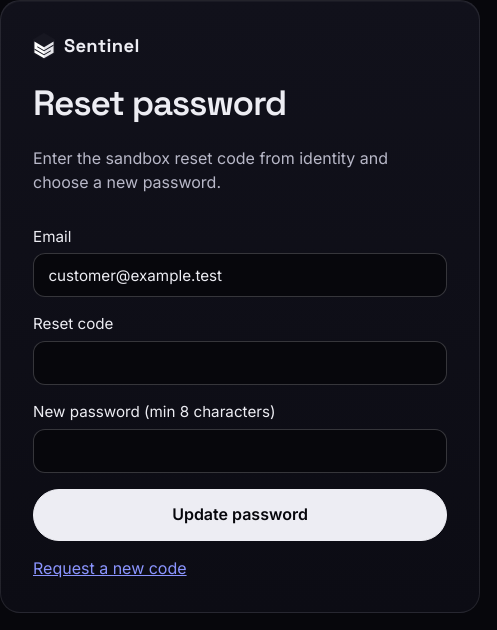
Test: auth challenge pages › reset password success — no Fixture placeholder
The image size is (497, 630).
Type "fixture-reset" into the field with test id "reset-code".
click(240, 363); type("fixture-reset")  # box [33,341,447,385]
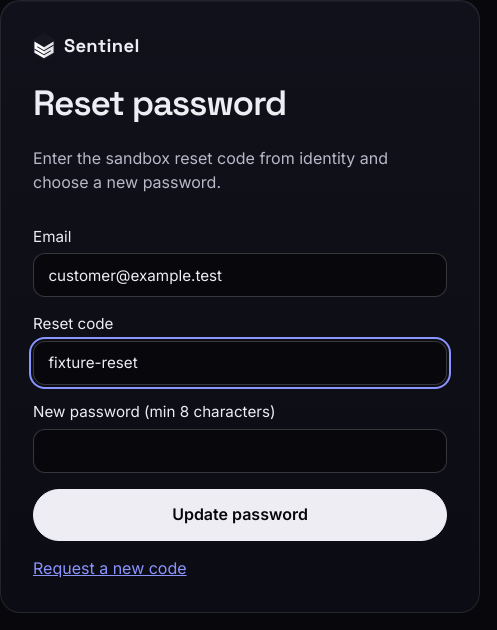
Type "new-password-9" into the password field with test id "reset-password".
click(240, 451); type("new-password-9")  # box [33,429,447,473]
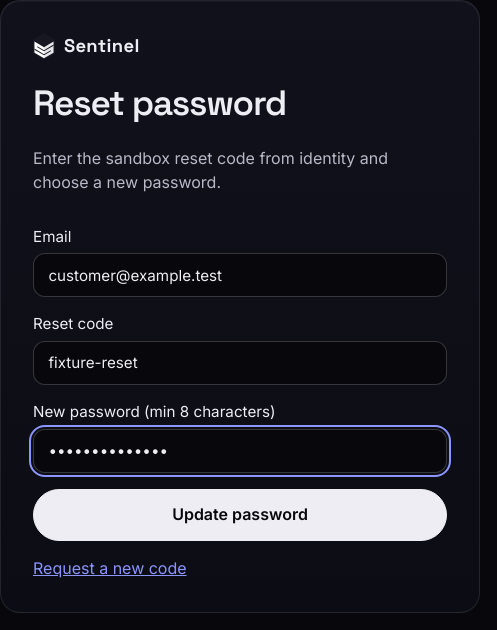
Click the button with test id "reset-submit".
click(240, 515)  # box [33,489,447,541]
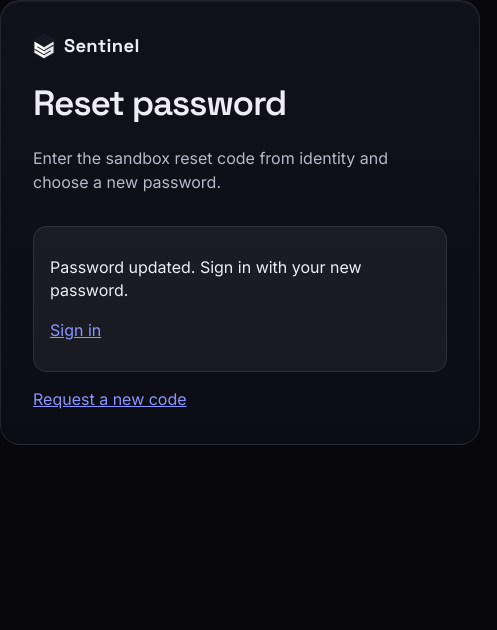
Result: the message "Password updated. Sign in with your new password. Sign in" is shown at [33,226,447,372]
